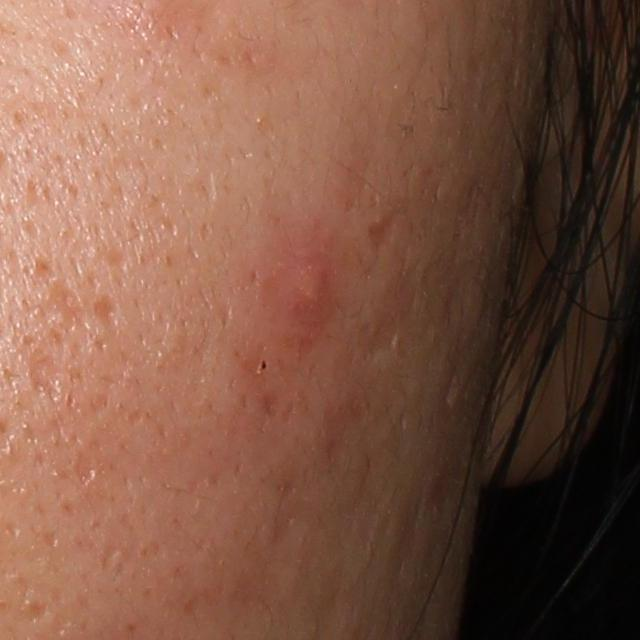atrophic_scar: (10, 332, 70, 406), (45, 278, 87, 340), (366, 205, 401, 265), (89, 290, 125, 344), (72, 450, 95, 485), (21, 600, 49, 618)
papule: (285, 257, 339, 317)
